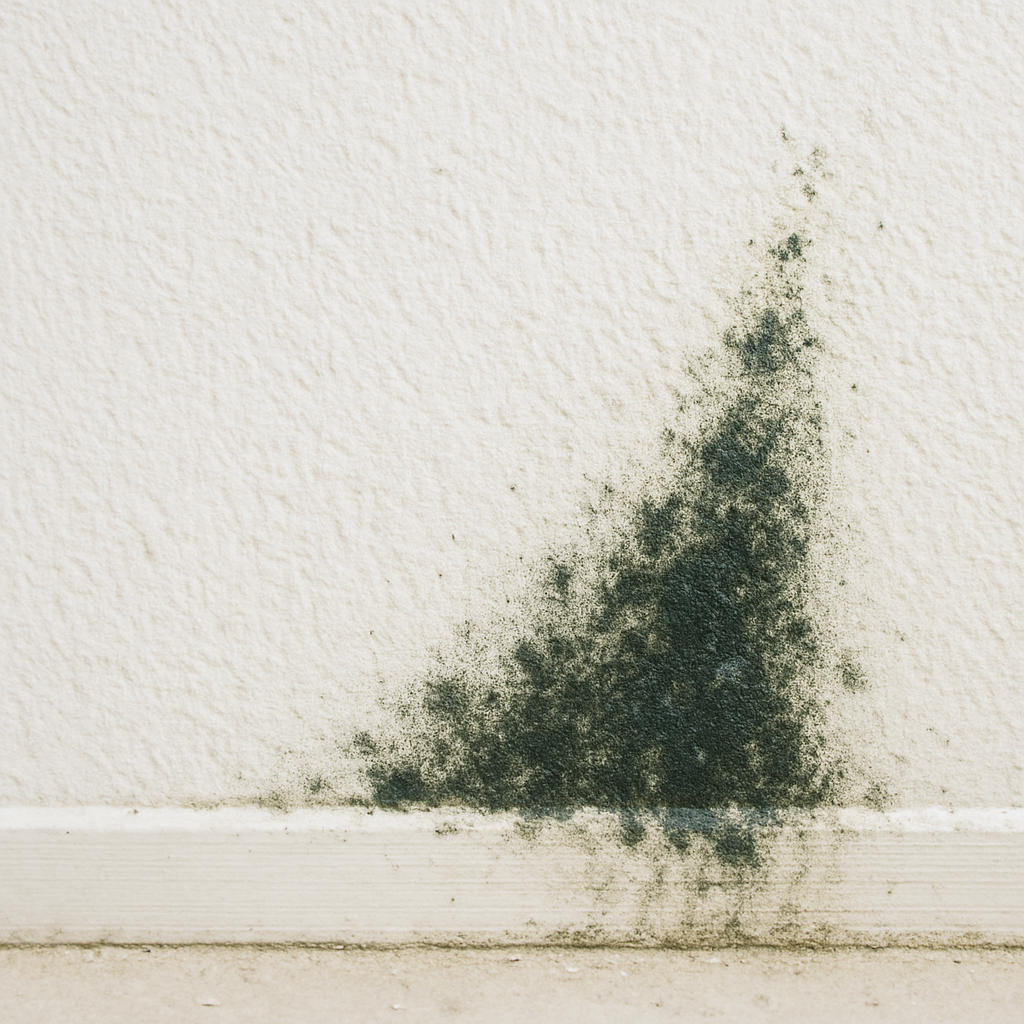schimmel: (695, 326, 796, 824), (460, 662, 613, 802), (618, 534, 685, 844), (362, 730, 456, 817), (713, 829, 818, 903)
